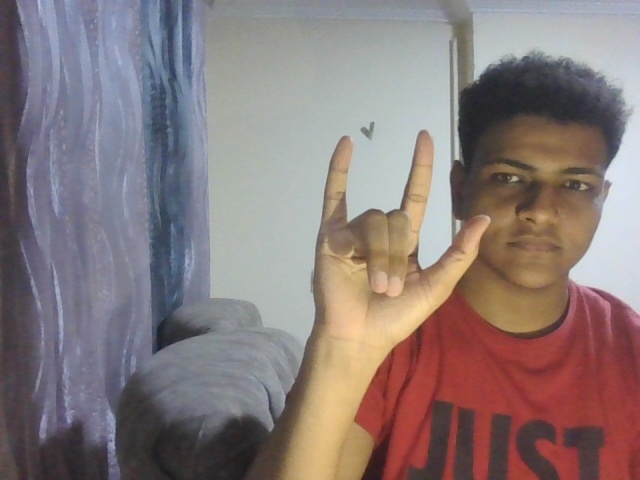iloveyou: (308, 118, 492, 358)
